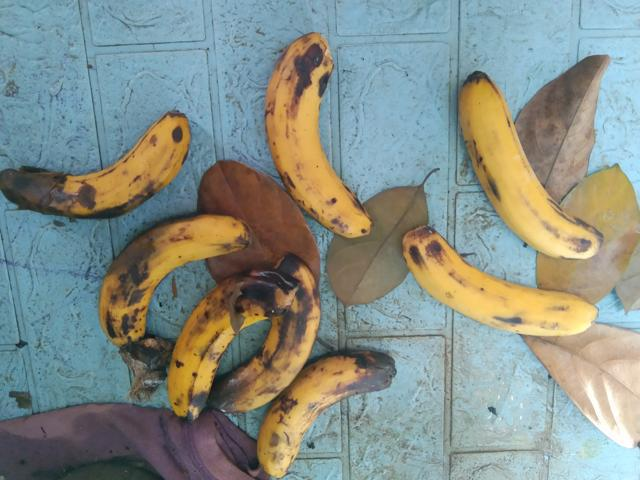overripe: (250, 21, 382, 253)
ripe: (446, 52, 606, 263), (399, 211, 603, 357)
rotten: (0, 93, 208, 249), (88, 185, 261, 343), (241, 338, 421, 479), (159, 269, 294, 423)
